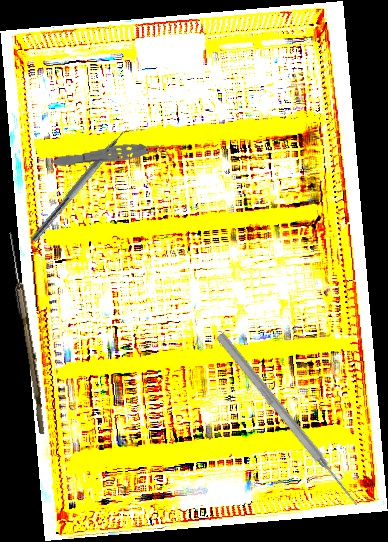Chopper: (30, 118, 141, 250)
Pusher: (213, 330, 363, 510)
Surgical Spoon: (4, 231, 50, 435)
Tissue Forceps: (51, 138, 171, 173)
